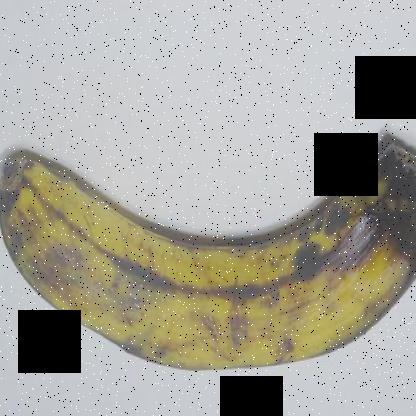overripe: (1, 133, 415, 383)
rotten: (341, 125, 415, 279)
